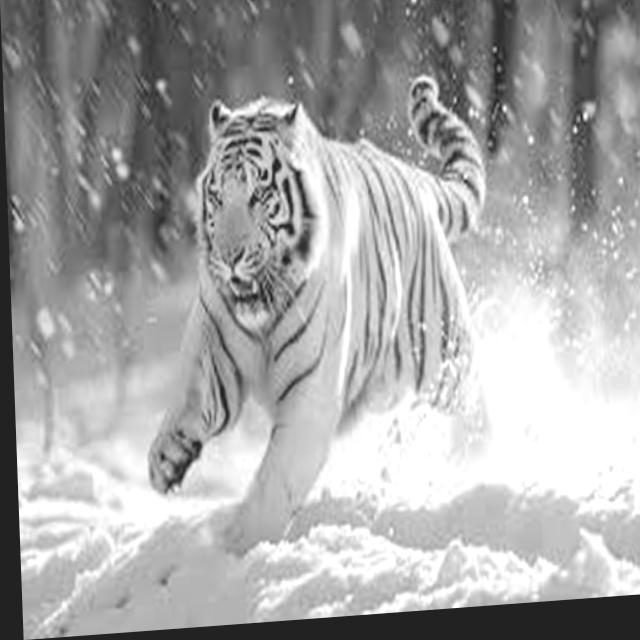Tiger: (131, 68, 500, 563)
